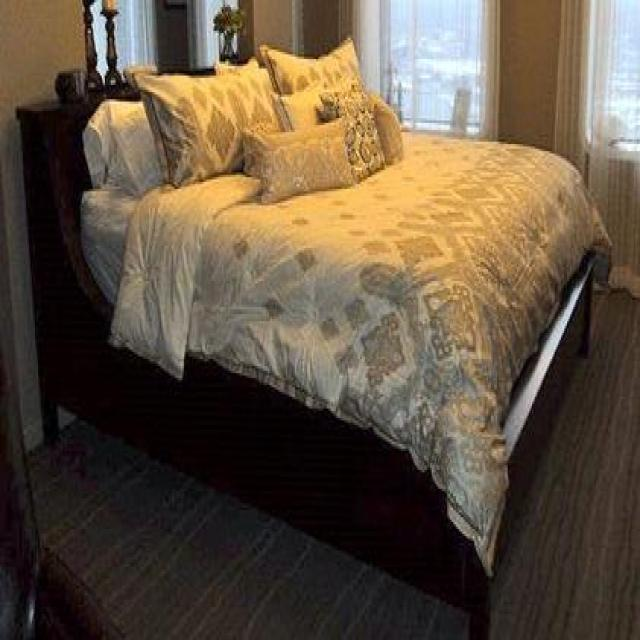bed: (17, 33, 614, 640)
